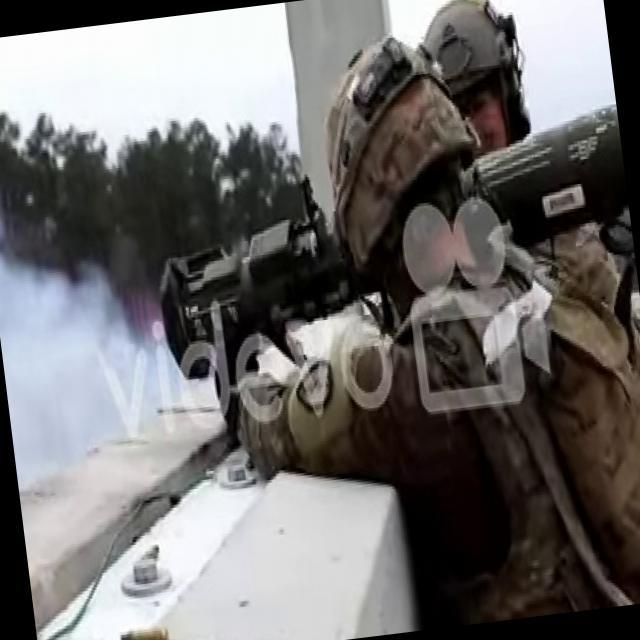rocket: (142, 105, 640, 391)
